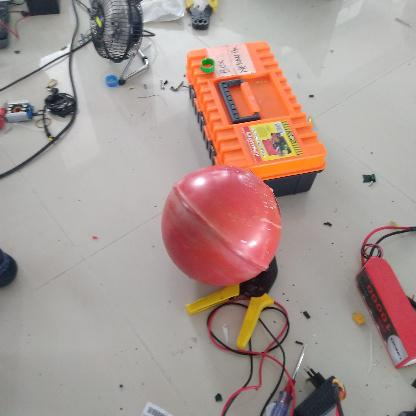red_buoy: (161, 165, 285, 290)
